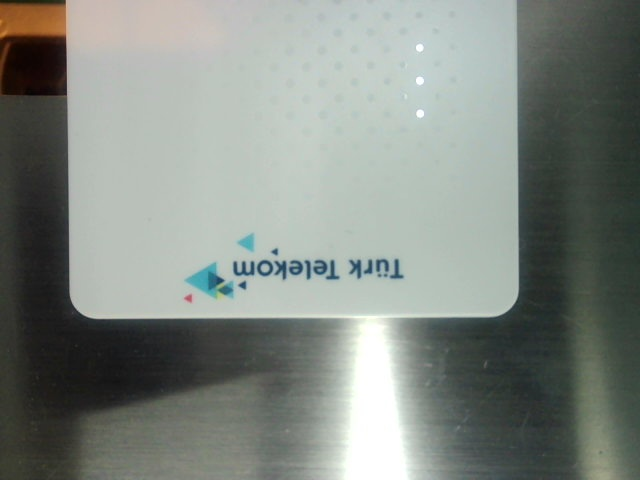AQ_TURKTelekom: (170, 228, 410, 312)
